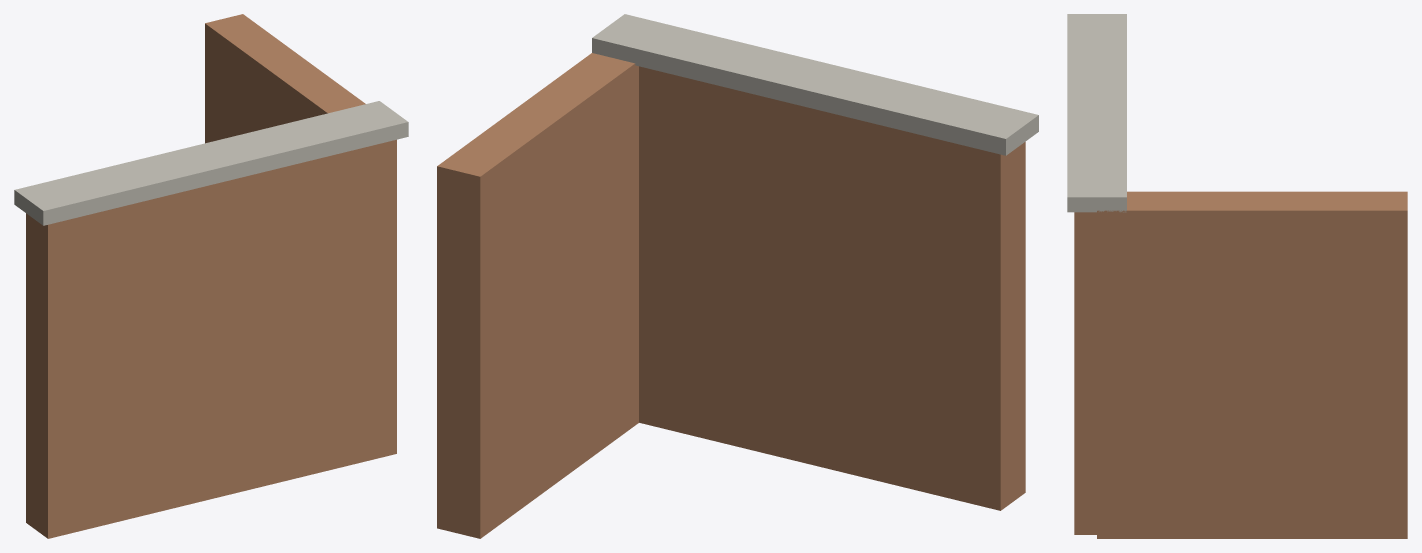
3 views of the same model, side by side, from view 1: azimuth 30°, elevation 25°; view 2: azimuth 150°, elevation 25°; view 3: azimuth 270°, elevation 25° (orthographic). The views are drawn at different scales.
Visible parts, largest first — view 1: QH-A0104_V02_geometry; view 2: QH-A0104_V02_geometry; view 3: QH-A0104_V02_geometry.
Boxes of the visible parts, x1,y1,x2,y2 form: QH-A0104_V02_geometry: (14,14,408,538); QH-A0104_V02_geometry: (437,14,1038,538); QH-A0104_V02_geometry: (1067,14,1407,538).
Size of the model in its own units: 3.35 by 2.91 by 2.63.
